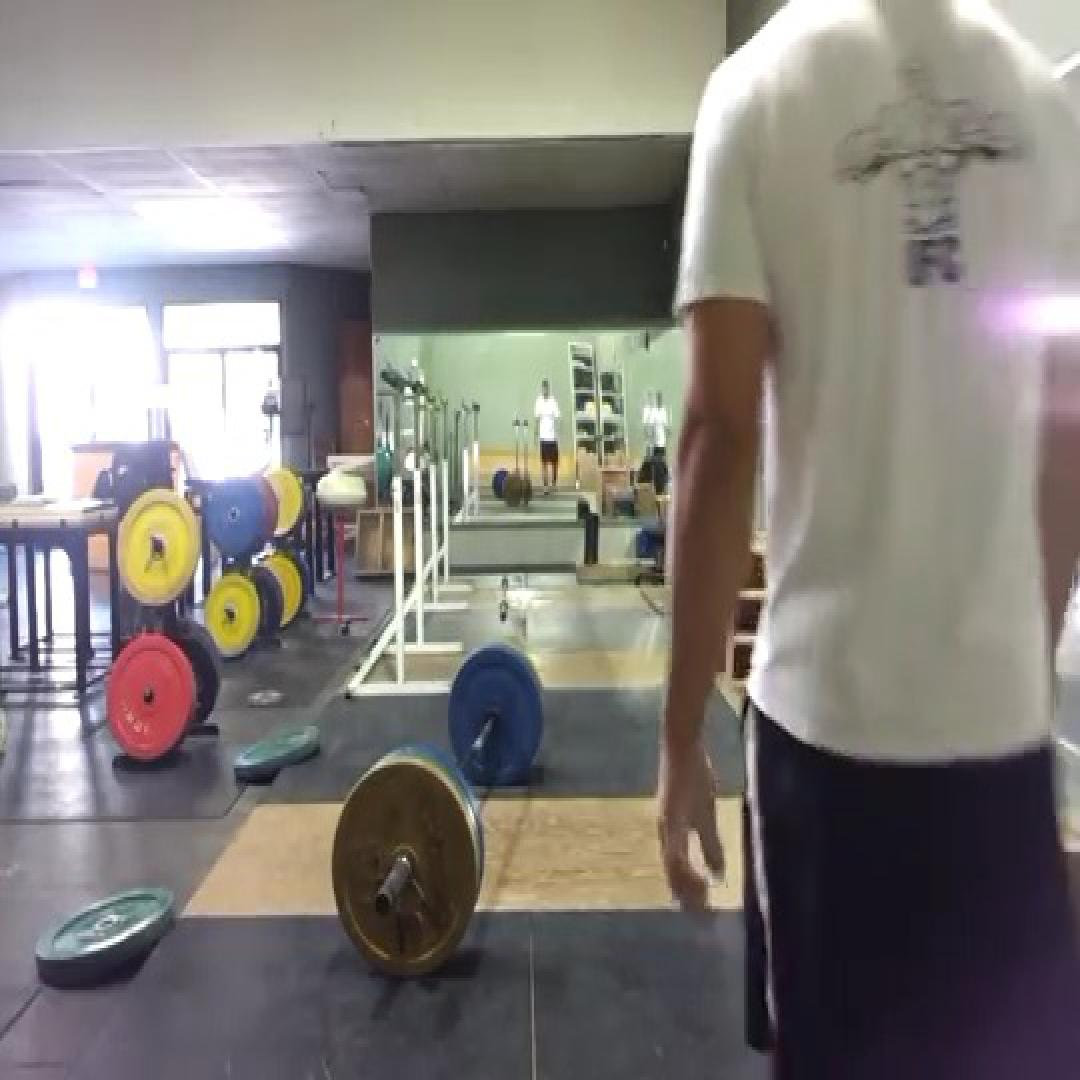Bar: (372, 885, 396, 918)
Barbell: (330, 762, 478, 978)
